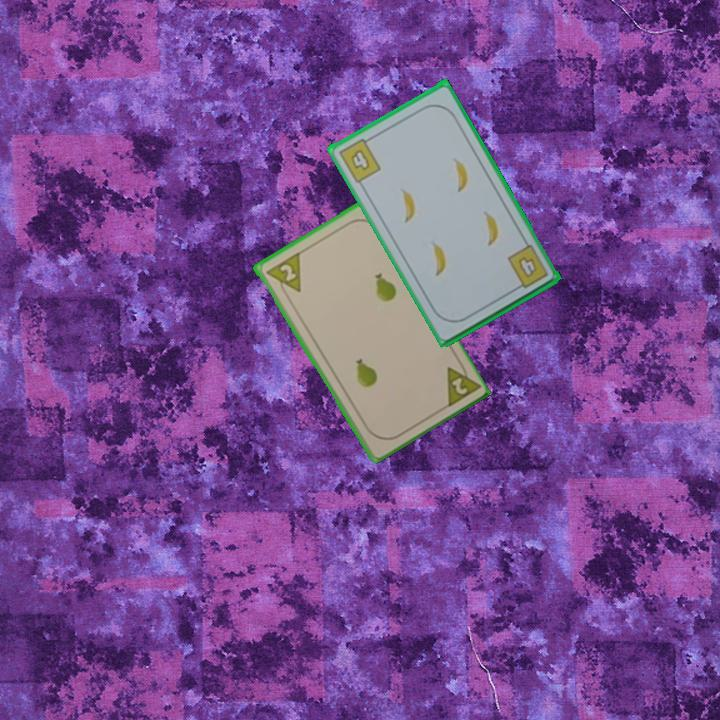2p: (441, 356, 482, 411), (262, 249, 304, 302)
4b: (335, 133, 383, 186), (503, 241, 551, 294)
